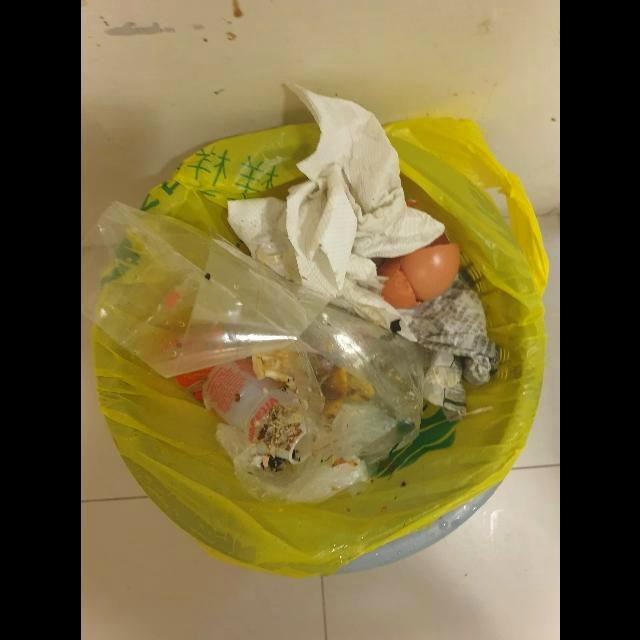paper: (226, 81, 445, 341)
plastic_bag: (81, 200, 426, 451)
